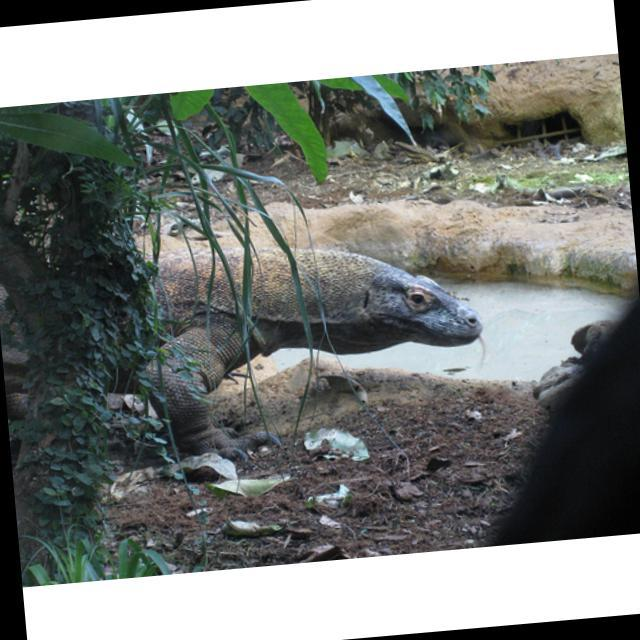KomodoDragon: (0, 219, 496, 481)
